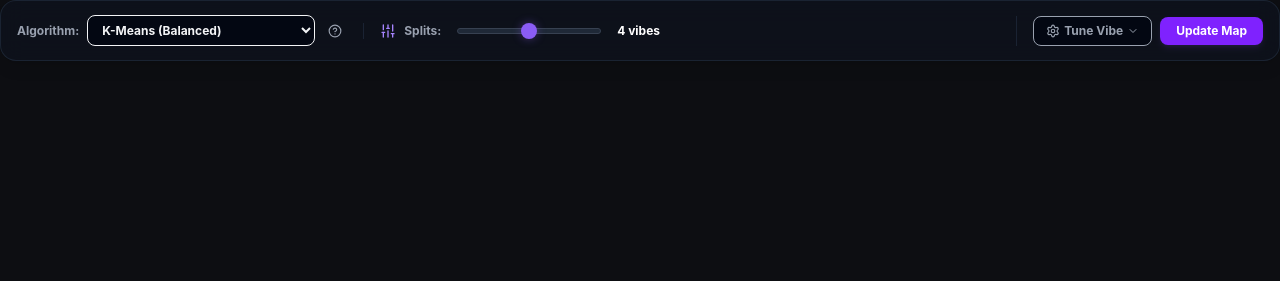
Test: AnalysisControls Component › toggles collapsible tuning section and displays advanced sliders
Expected: the text "Tuning Preset:" is not shown
// Toggle Tune Vibe button
Click the button "Tune Vibe" at [1093, 30], box [1033, 16, 1152, 46]
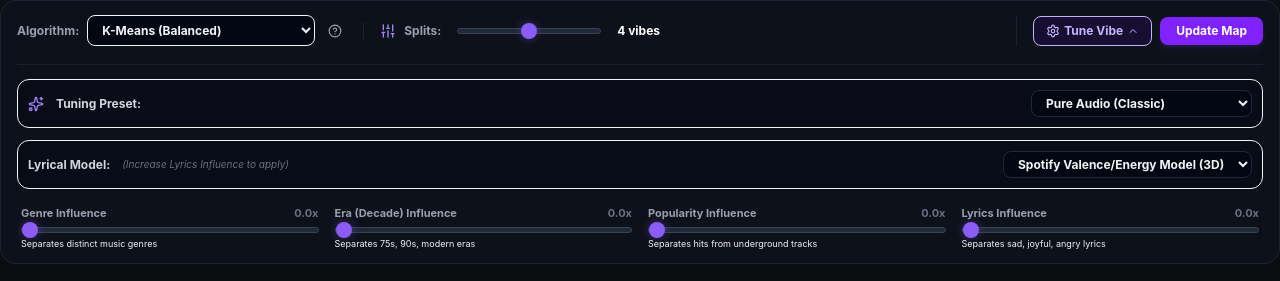
Result: the text "Tuning Preset:" is shown at [56, 96, 141, 112]
Result: the text "Lyrical Model:" is shown at [28, 156, 110, 172]
Result: the text "Genre Influence" is shown at [21, 205, 107, 222]
